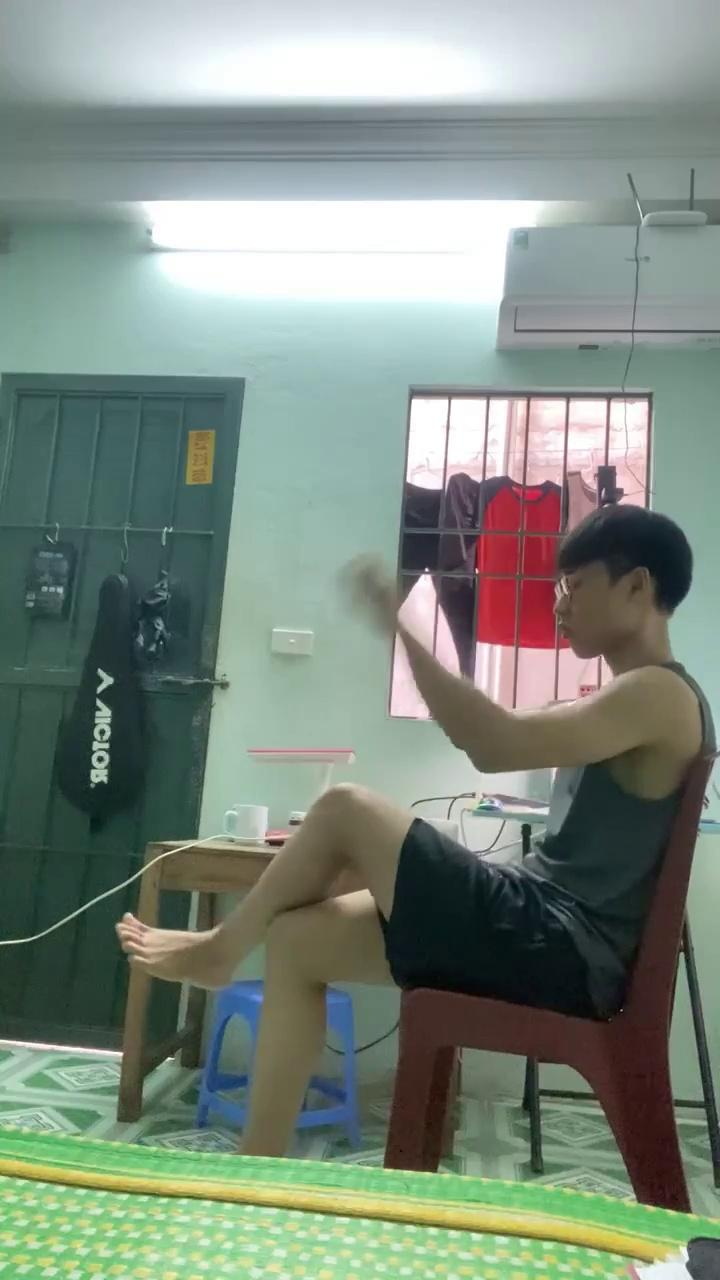BadPosture: (168, 786, 411, 1155)
